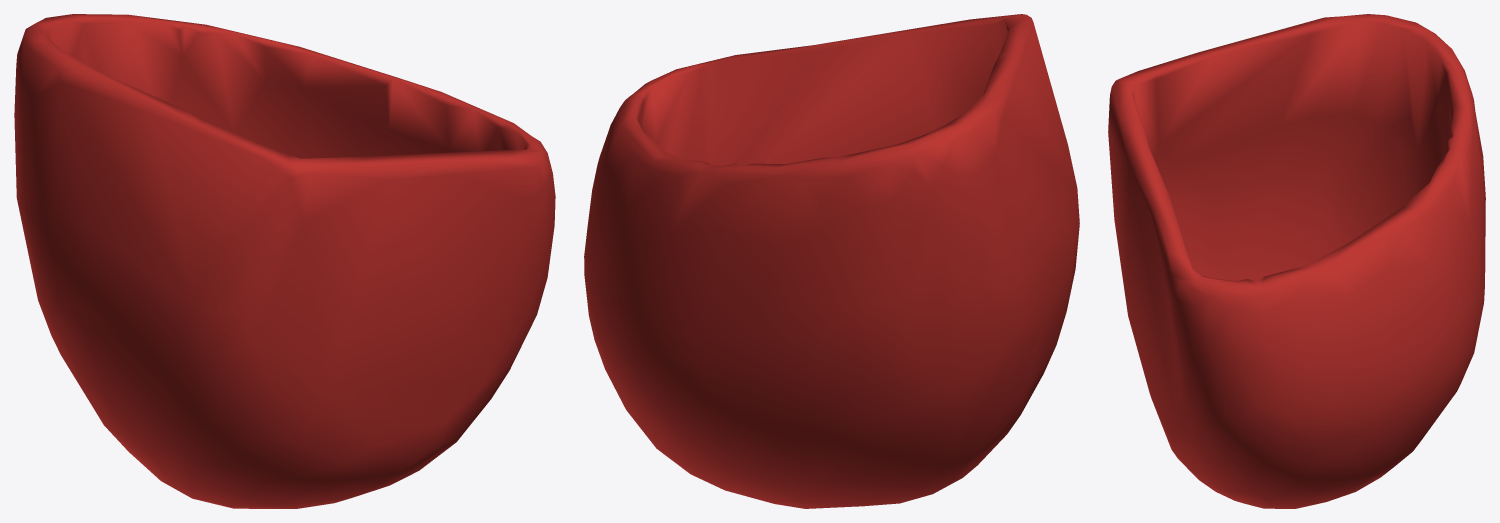
The model's file is circulatorio-left-semilunar-leaflet-of-pulmonary-valve.glb.
The picture shows the model from 3 angles, left to right: view 1: azimuth 30°, elevation 25°; view 2: azimuth 150°, elevation 25°; view 3: azimuth 270°, elevation 25°; orthographic projection. The views are drawn at different scales.
Parts seen in each view (by area): view 1: Left semilunar leaflet of pulmonary valve; view 2: Left semilunar leaflet of pulmonary valve; view 3: Left semilunar leaflet of pulmonary valve.
Part boxes in pixels (bbox=[...]): Left semilunar leaflet of pulmonary valve: bbox=[14, 14, 555, 508]; Left semilunar leaflet of pulmonary valve: bbox=[584, 14, 1079, 508]; Left semilunar leaflet of pulmonary valve: bbox=[1108, 14, 1485, 508].
Bounding box in the file's own units: 0.0178 × 0.0171 × 0.0152.
